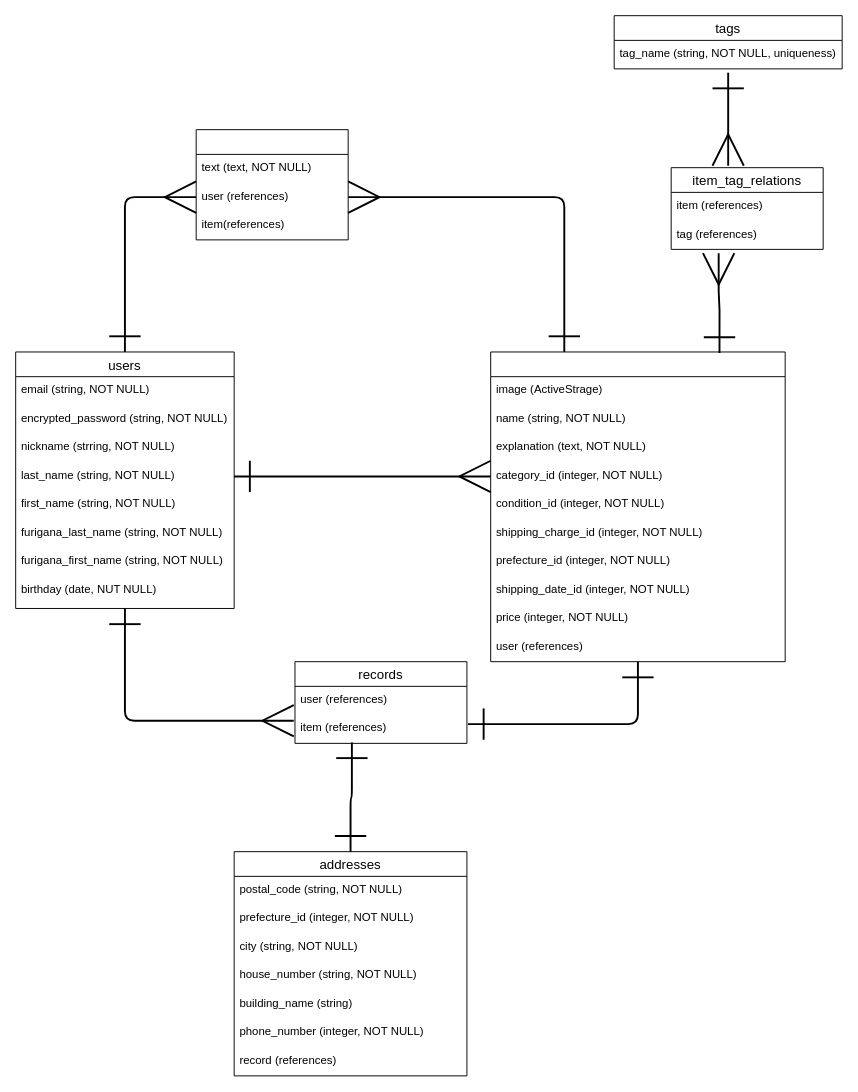
Some shapes in this 858 by 1092 pixel diagram are drawn without their labels. Each missing label, with the box of its shape:
comments: (195, 129, 348, 240)
items: (490, 351, 785, 662)
